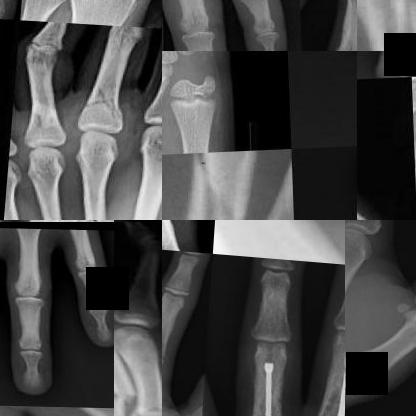fracture: (175, 152, 258, 219), (248, 344, 292, 415), (357, 0, 415, 51), (315, 334, 345, 415), (83, 74, 130, 115), (202, 375, 223, 415), (123, 394, 161, 415), (114, 375, 130, 413)
